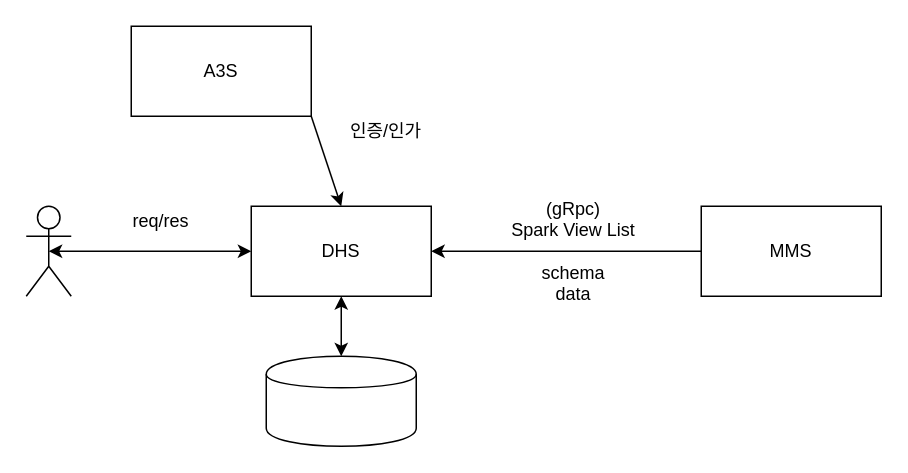
This 908x473 diagram has some shape labels left out. Here are the shapes that lost their labels. From the top down, the centre of each, then its label:
At pixel 48 250: "Actor".
At pixel 340 400: "DHS DB".
